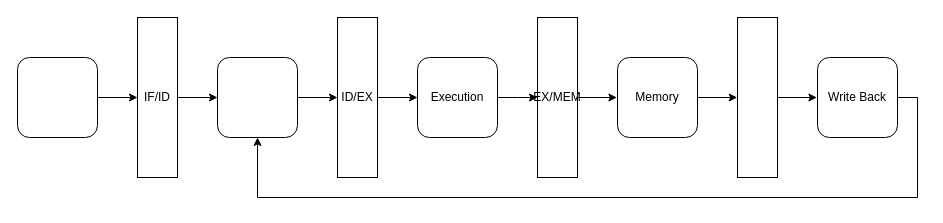
Some shapes in this 943 by 223 pixel diagram are drawn without their labels. The shapes that lost their labels are listed below. From the top down, each one's centre as x and y in pixels, then its label:
At [57,97]: "Instruction Fetch".
At [257,97]: "Instruction Decode".
At [757,97]: "MEM/WB".
